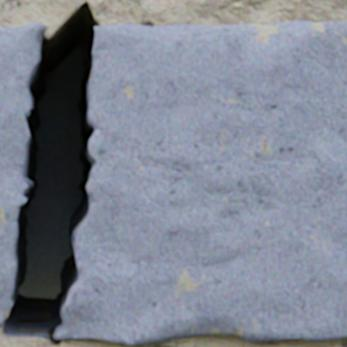broken_brick: (56, 22, 346, 344), (0, 23, 46, 325)
crack: (0, 1, 101, 345)
